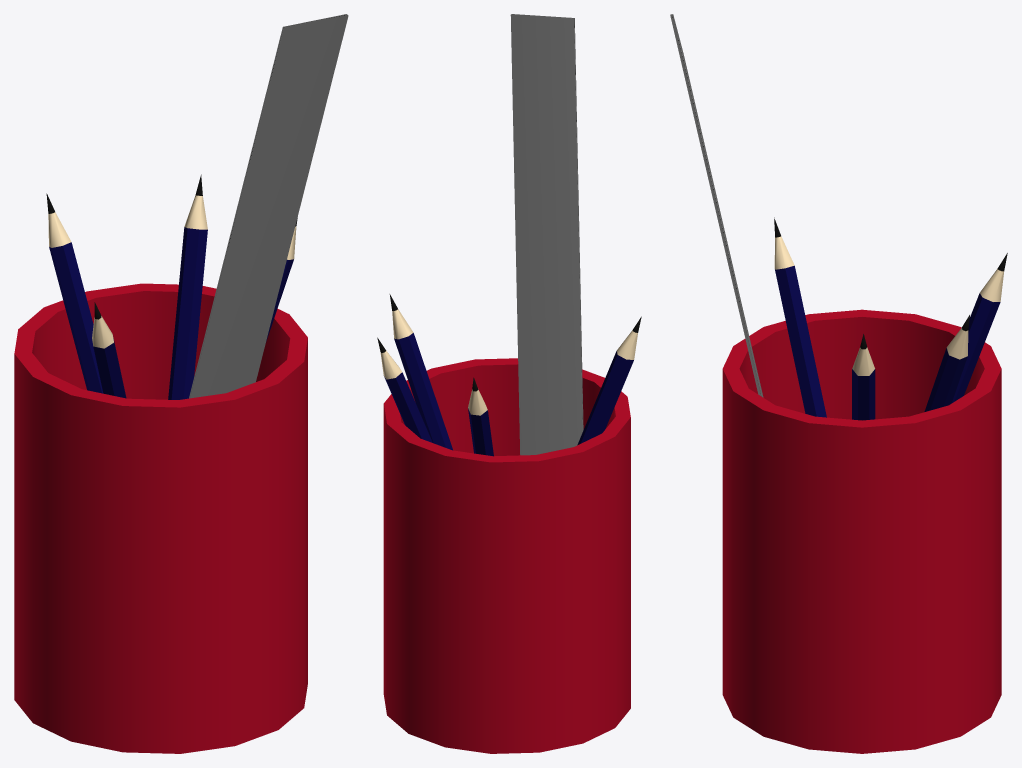
The model's file is Stationary_PencilHolder_01.fbx.
3 views of the same model, side by side, from view 1: azimuth 30°, elevation 25°; view 2: azimuth 150°, elevation 25°; view 3: azimuth 270°, elevation 25° (orthographic). The views are drawn at different scales.
Parts seen in each view (by area): view 1: PencilHolder; view 2: PencilHolder; view 3: PencilHolder.
Boxes of the visible parts, x1,y1,x2,y2 form: PencilHolder: [14, 14, 348, 753]; PencilHolder: [377, 14, 641, 753]; PencilHolder: [670, 14, 1007, 753].
Bounding box in the file's own units: 13.94 × 36.54 × 16.19.
